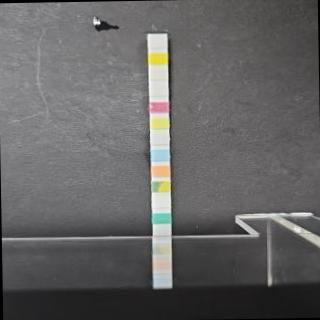mark: (150, 164, 168, 177), (150, 116, 168, 129), (149, 101, 168, 113), (148, 36, 167, 48), (151, 196, 169, 208), (152, 180, 170, 192), (150, 133, 168, 145), (148, 52, 166, 64), (153, 212, 170, 224), (150, 84, 167, 96), (150, 67, 167, 79), (152, 149, 168, 161)
